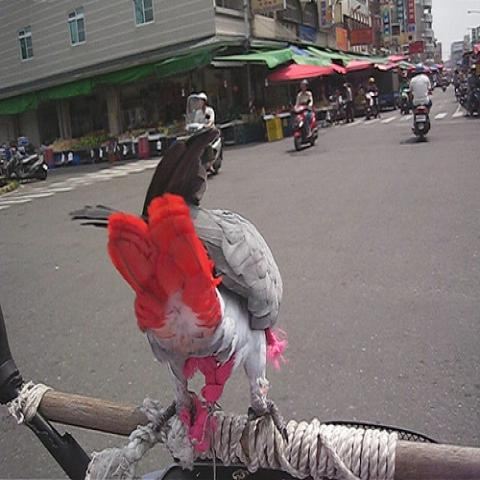motorcycle: (291, 104, 429, 149), (184, 95, 224, 175), (3, 147, 48, 184), (364, 92, 378, 119), (468, 85, 479, 119), (399, 90, 410, 114), (454, 79, 465, 103)
